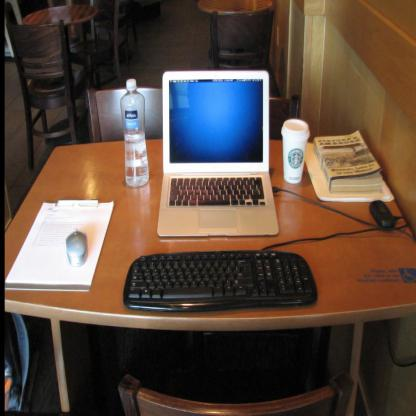board: (152, 70, 280, 238), (120, 77, 150, 187), (282, 118, 310, 183)
